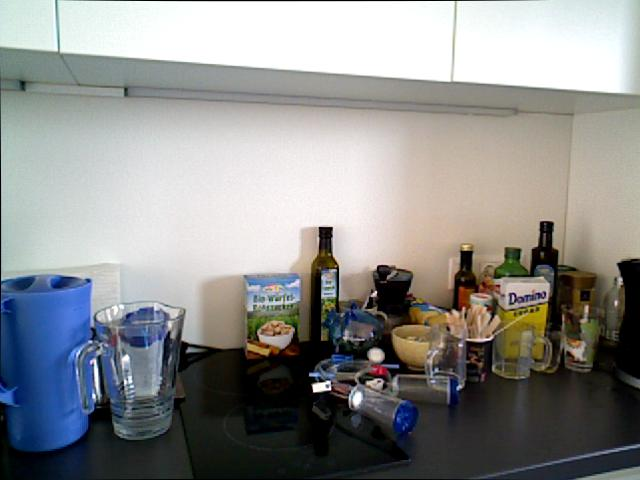bench: (309, 225, 340, 352), (530, 220, 558, 324), (492, 243, 527, 312), (452, 242, 477, 312), (603, 276, 624, 346)
bird: (390, 323, 435, 370), (256, 322, 294, 349)
handbag: (0, 273, 103, 452), (76, 300, 186, 440), (491, 321, 552, 379), (424, 322, 467, 391), (560, 303, 601, 373)
